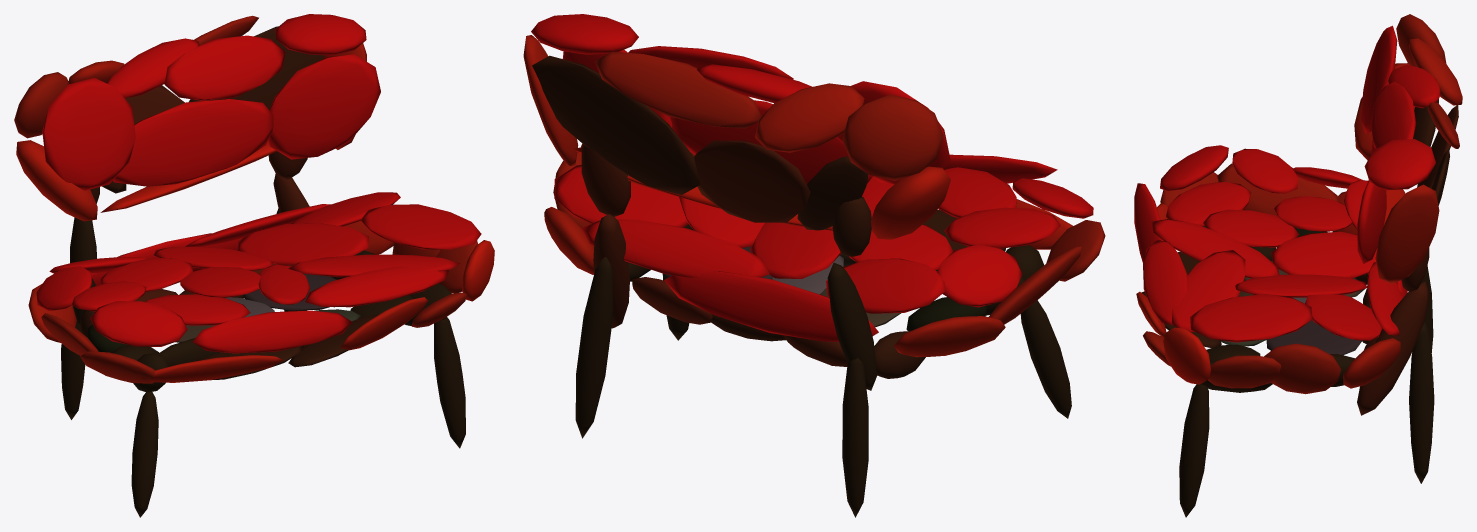
File: SheenChair_512B_ellip.glb
3 renders of one model, left to right at view 1: azimuth 30°, elevation 25°; view 2: azimuth 150°, elevation 25°; view 3: azimuth 270°, elevation 25°, orthographic. The views are drawn at different scales.
Size of the model in its own units: 2.08 by 1.76 by 1.47.
